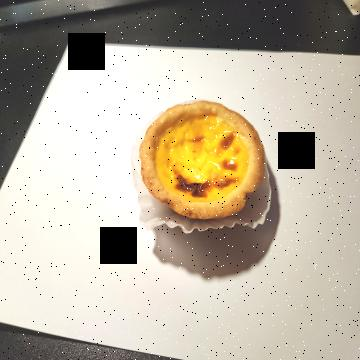EggTart: (138, 100, 264, 221)
